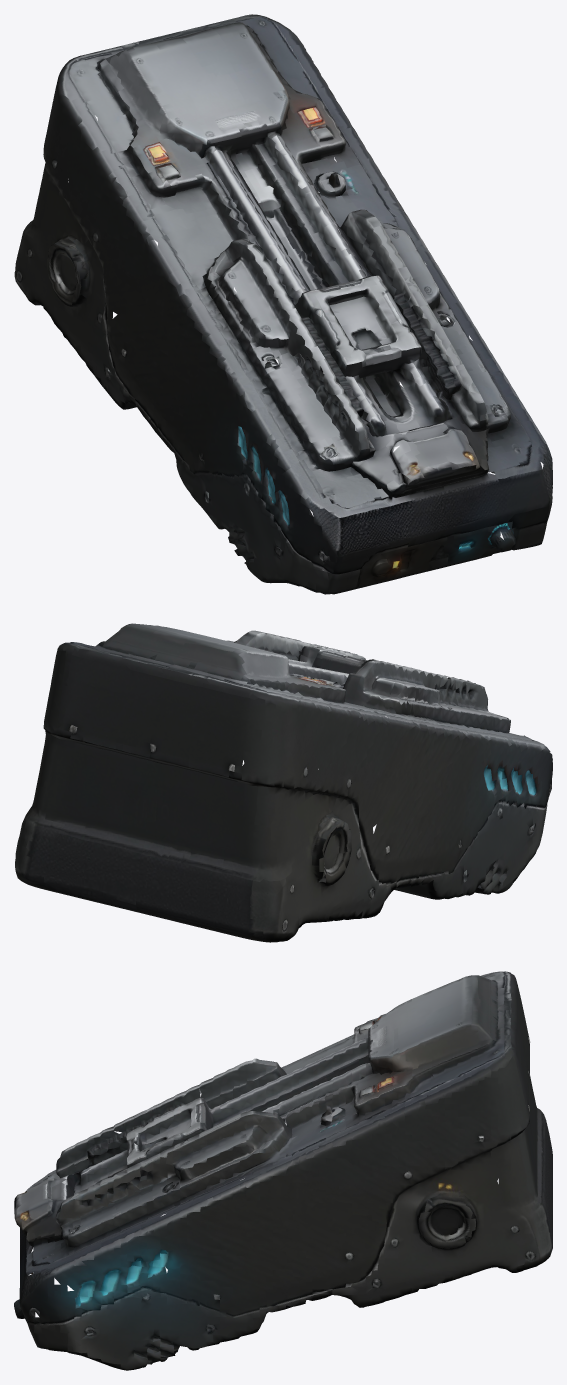
The model's file is throttle_base.glb.
The picture shows the model from 3 angles, top to bottom: view 1: azimuth 30°, elevation 25°; view 2: azimuth 150°, elevation 25°; view 3: azimuth 270°, elevation 25°; orthographic projection. The views are drawn at different scales.
Parts seen in each view (by area): view 1: model; view 2: model; view 3: model.
Part boxes in pixels (x1,y1,x2,y2): model: [14, 14, 552, 594]; model: [15, 623, 552, 942]; model: [14, 971, 552, 1370].
Size of the model in its own units: 0.5024 by 0.6424 by 0.977.
Materials: 1 (1 with a texture image).
